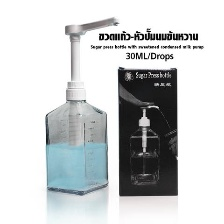bottle: (33, 88, 113, 198), (125, 124, 165, 188)
